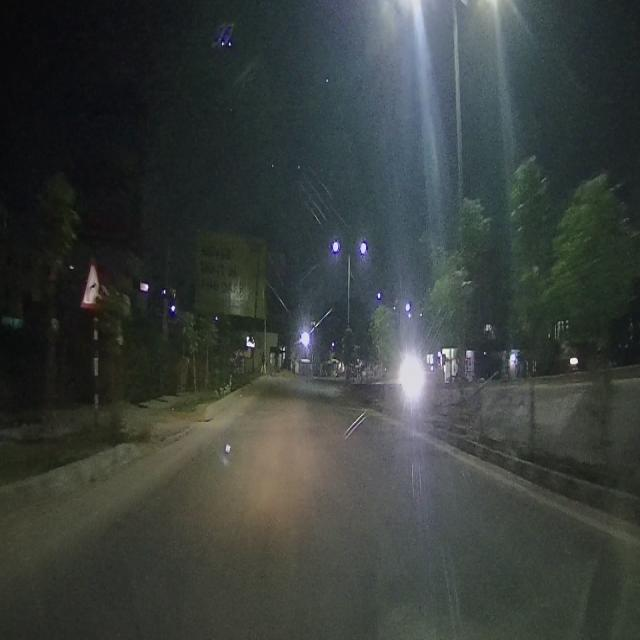right-hand-curve: (85, 258, 101, 311)
